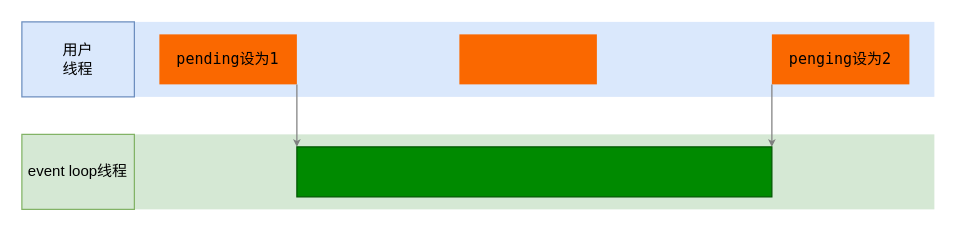
Some shapes in this 956 by 231 pixel diagram are drawn without their labels. Here are the shapes that lost their labels. From the top down, the box of each, then its label:
(459, 34, 596, 84): write fd
(296, 146, 772, 197): uv__async_spin 无效空转区间
